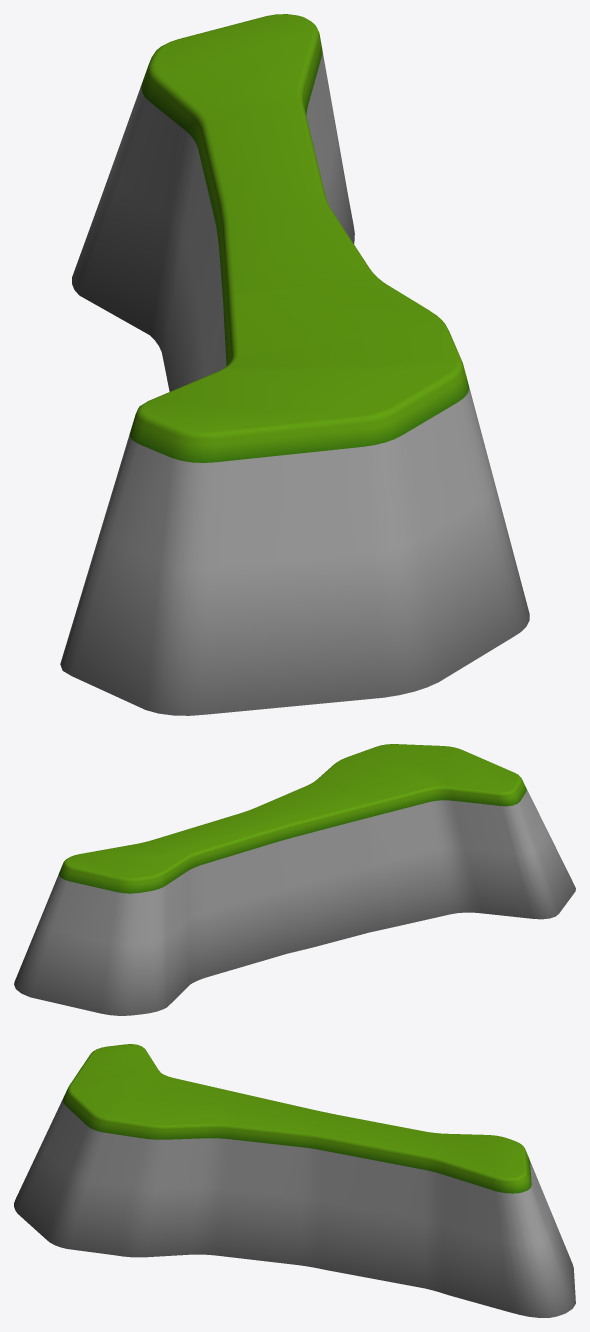
The model's file is Mountain06.fbx.
3 views of the same model, one above another, from view 1: azimuth 30°, elevation 25°; view 2: azimuth 150°, elevation 25°; view 3: azimuth 270°, elevation 25° (orthographic). The views are drawn at different scales.
Parts seen in each view (by area): view 1: LOD0; view 2: LOD0; view 3: LOD0.
Part boxes in pixels (<box>): LOD0: <box>60,14,529,715</box>; LOD0: <box>14,744,575,1015</box>; LOD0: <box>14,1044,575,1317</box>.
Size of what is drawn, in the model's own units: 1137 by 1560 by 375.
